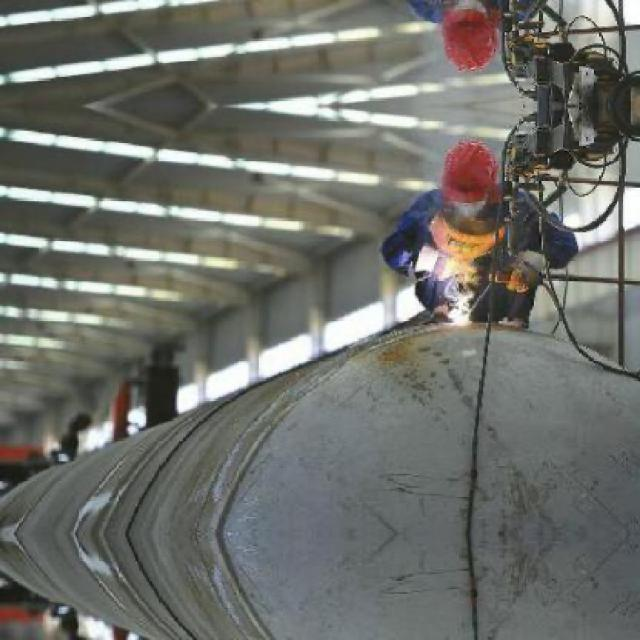helmet: (437, 132, 505, 214), (436, 0, 505, 78)
